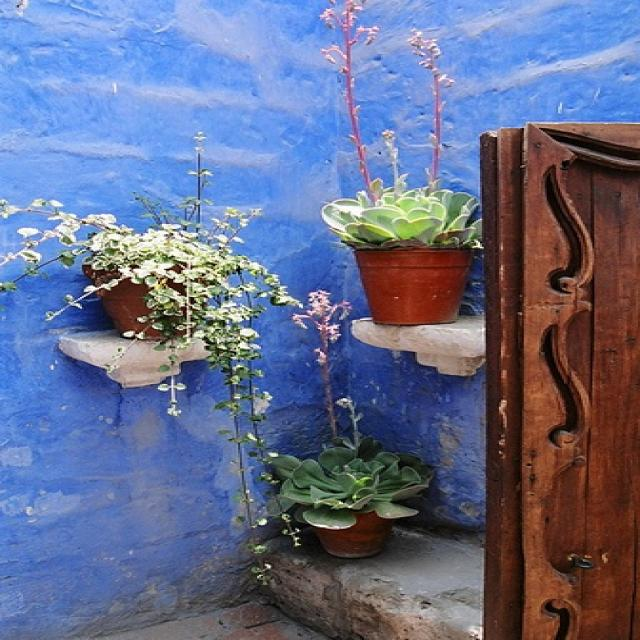pottedplant: (317, 1, 485, 326), (13, 196, 291, 340), (270, 426, 451, 558)
